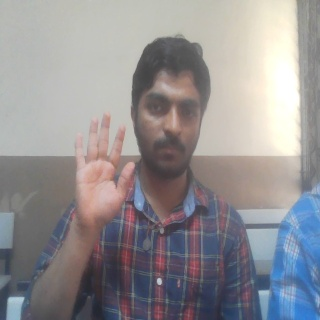Face: (130, 32, 213, 182)
Hello: (72, 111, 135, 231)
